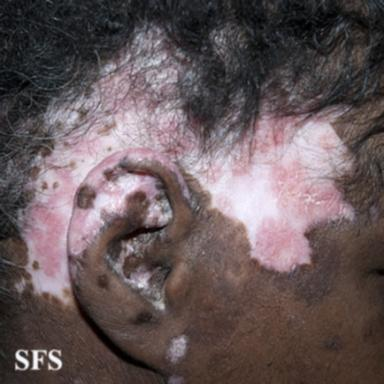Lupus-Erythematosus-Chronicus-Discoides: (18, 22, 356, 303), (103, 230, 169, 312), (166, 334, 188, 364)
